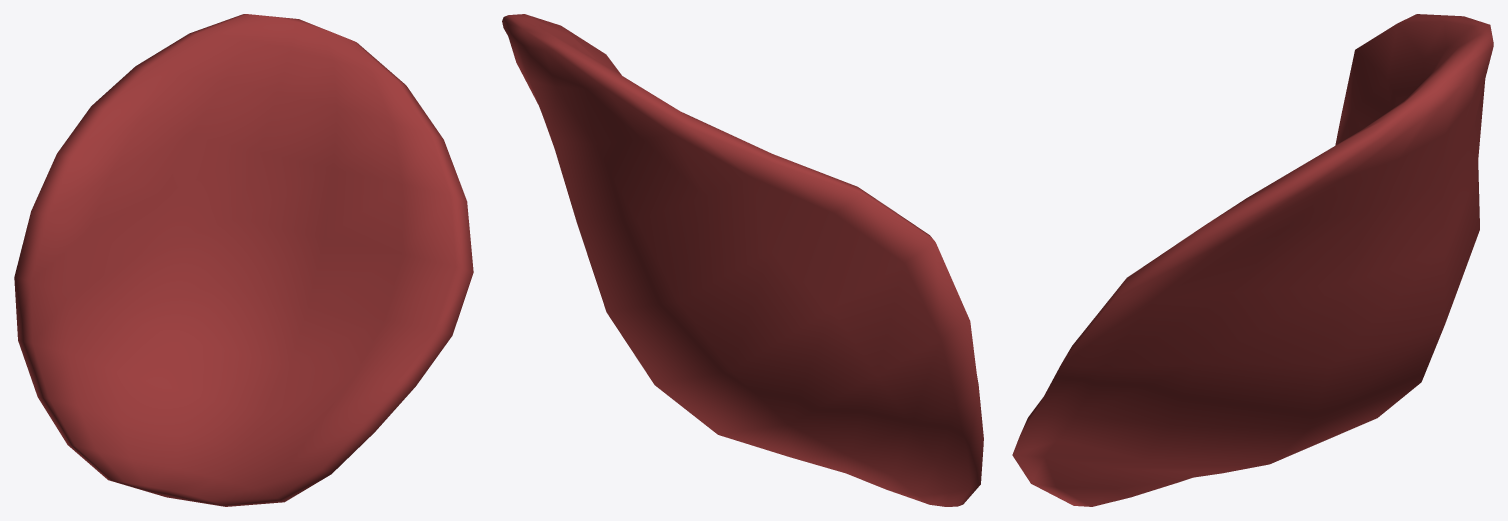
The model's file is sciatic-bursa-of-gluteus-maximus-muscle-l.glb.
3 renders of one model, left to right at view 1: azimuth 30°, elevation 25°; view 2: azimuth 150°, elevation 25°; view 3: azimuth 270°, elevation 25°, orthographic. The views are drawn at different scales.
Parts seen in each view (by area): view 1: Sciatic bursa of gluteus maximus muscle.l; view 2: Sciatic bursa of gluteus maximus muscle.l; view 3: Sciatic bursa of gluteus maximus muscle.l.
Boxes of the visible parts, left/top/right/bottom form: Sciatic bursa of gluteus maximus muscle.l: left=14, top=14, right=473, bottom=506; Sciatic bursa of gluteus maximus muscle.l: left=502, top=14, right=983, bottom=506; Sciatic bursa of gluteus maximus muscle.l: left=1012, top=14, right=1493, bottom=506.
Bounding box in the file's own units: 0.0271 × 0.0258 × 0.0209.
